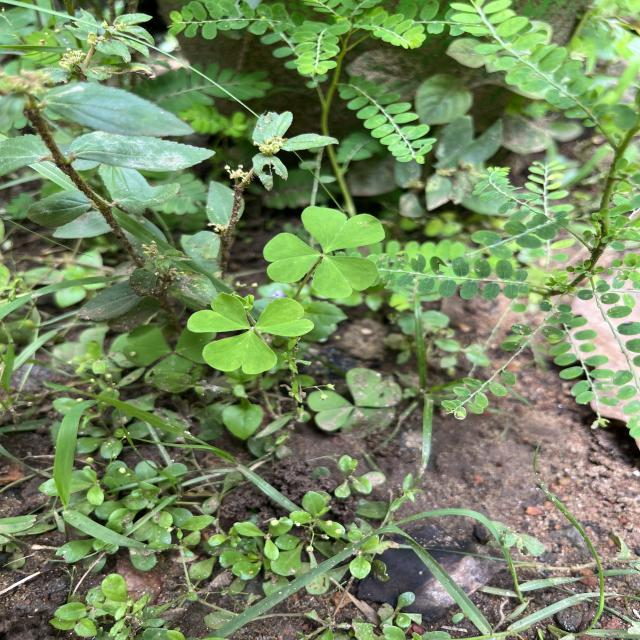Oxalis corniculata: (261, 202, 383, 298), (186, 292, 316, 376)
